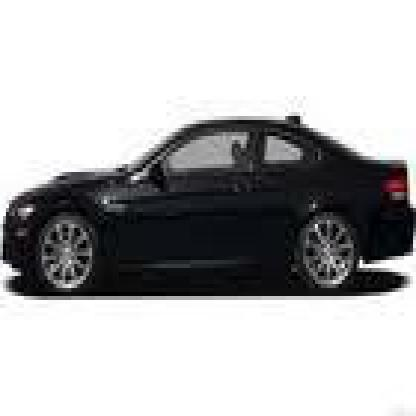Vehicle: (3, 124, 413, 312)
